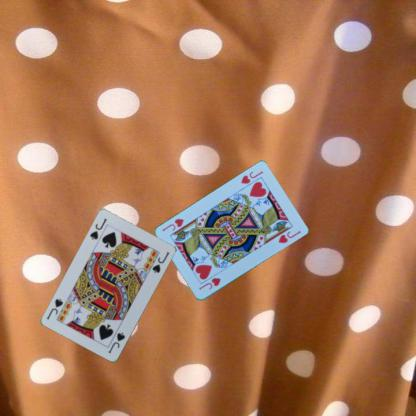Jh: (238, 168, 264, 186), (196, 276, 222, 291)
Js: (106, 330, 127, 355), (87, 216, 108, 241)
